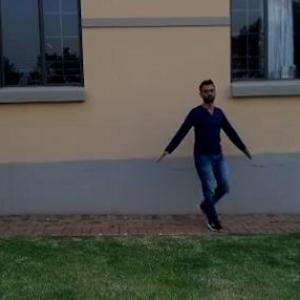land: (151, 83, 251, 235)
